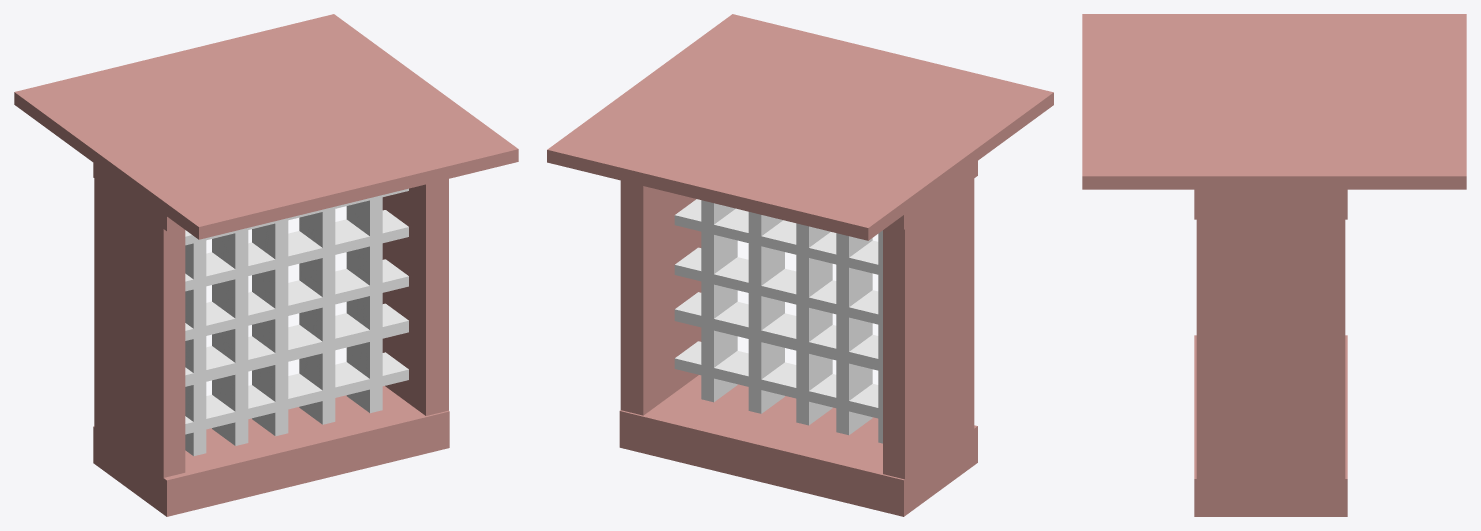
File: sh-contrib-borderfence-small.glb
3 renders of one model, left to right at view 1: azimuth 30°, elevation 25°; view 2: azimuth 150°, elevation 25°; view 3: azimuth 270°, elevation 25°, orthographic. The views are drawn at different scales.
Visible parts, largest first — view 1: top, Cube_2; view 2: top, Cube_2; view 3: top.
Boxes of the visible parts, bbox=[...] form: top: bbox=[14, 14, 518, 516]; Cube_2: bbox=[185, 188, 408, 456]; top: bbox=[547, 14, 1053, 516]; Cube_2: bbox=[674, 199, 882, 443]; top: bbox=[1082, 14, 1466, 516].
Bounding box in the file's own units: 1 × 1 × 1.
